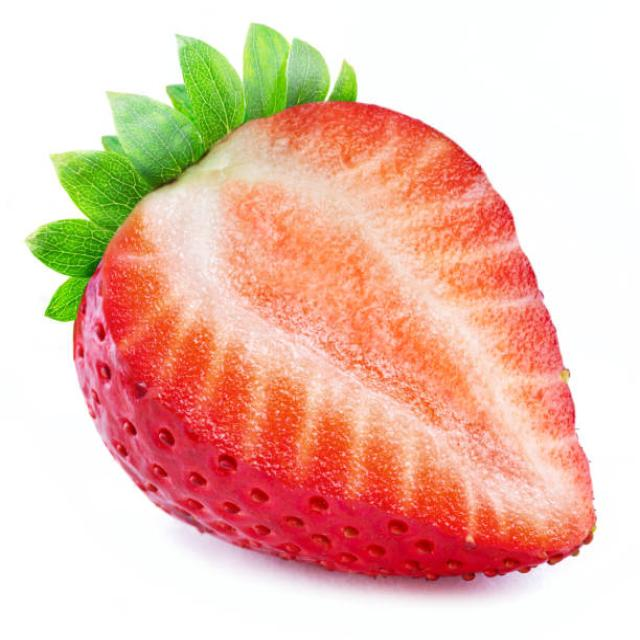Healthy Fruit: (72, 99, 597, 579)
